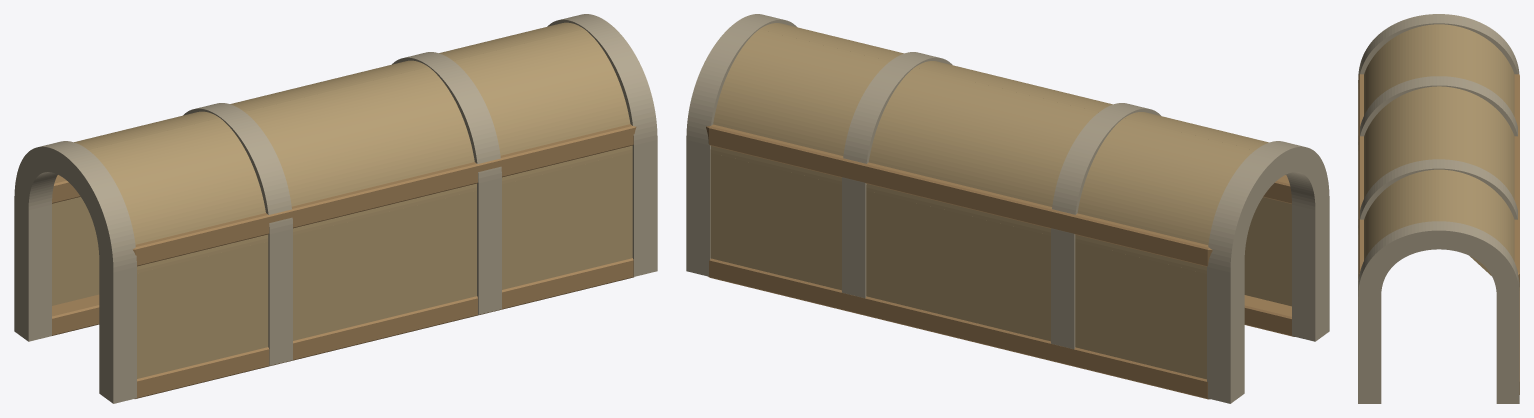
The model's file is temple-lane-3.fbx.
The picture shows the model from 3 angles, left to right: view 1: azimuth 30°, elevation 25°; view 2: azimuth 150°, elevation 25°; view 3: azimuth 270°, elevation 25°; orthographic projection. The views are drawn at different scales.
Parts seen in each view (by area): view 1: tekli arc.002; view 2: tekli arc.002; view 3: tekli arc.002.
Boxes of the visible parts, <box> form: tekli arc.002: <box>14,14,657,403</box>; tekli arc.002: <box>686,14,1329,403</box>; tekli arc.002: <box>1358,14,1519,403</box>.
Size of the model in its own units: 82.61 by 31.08 by 26.06.
